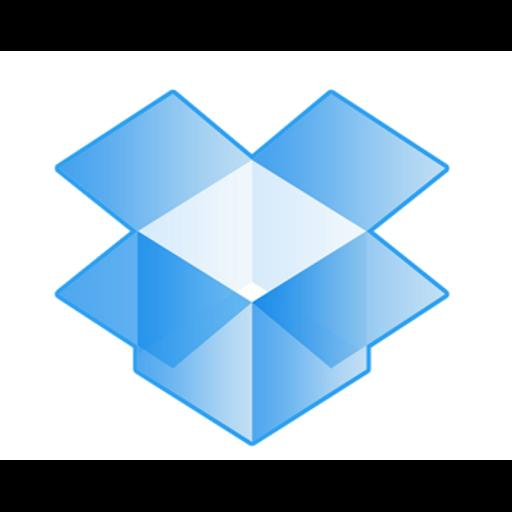Dropbox: (0, 51, 512, 460)
